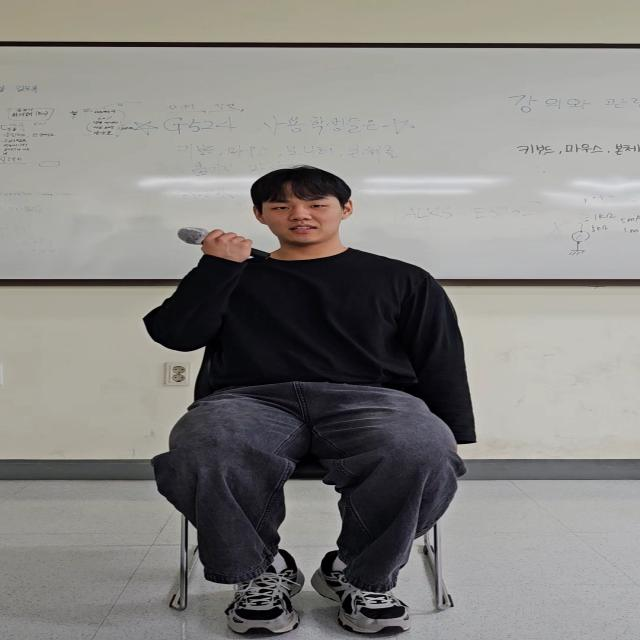curl: (141, 228, 257, 348)
